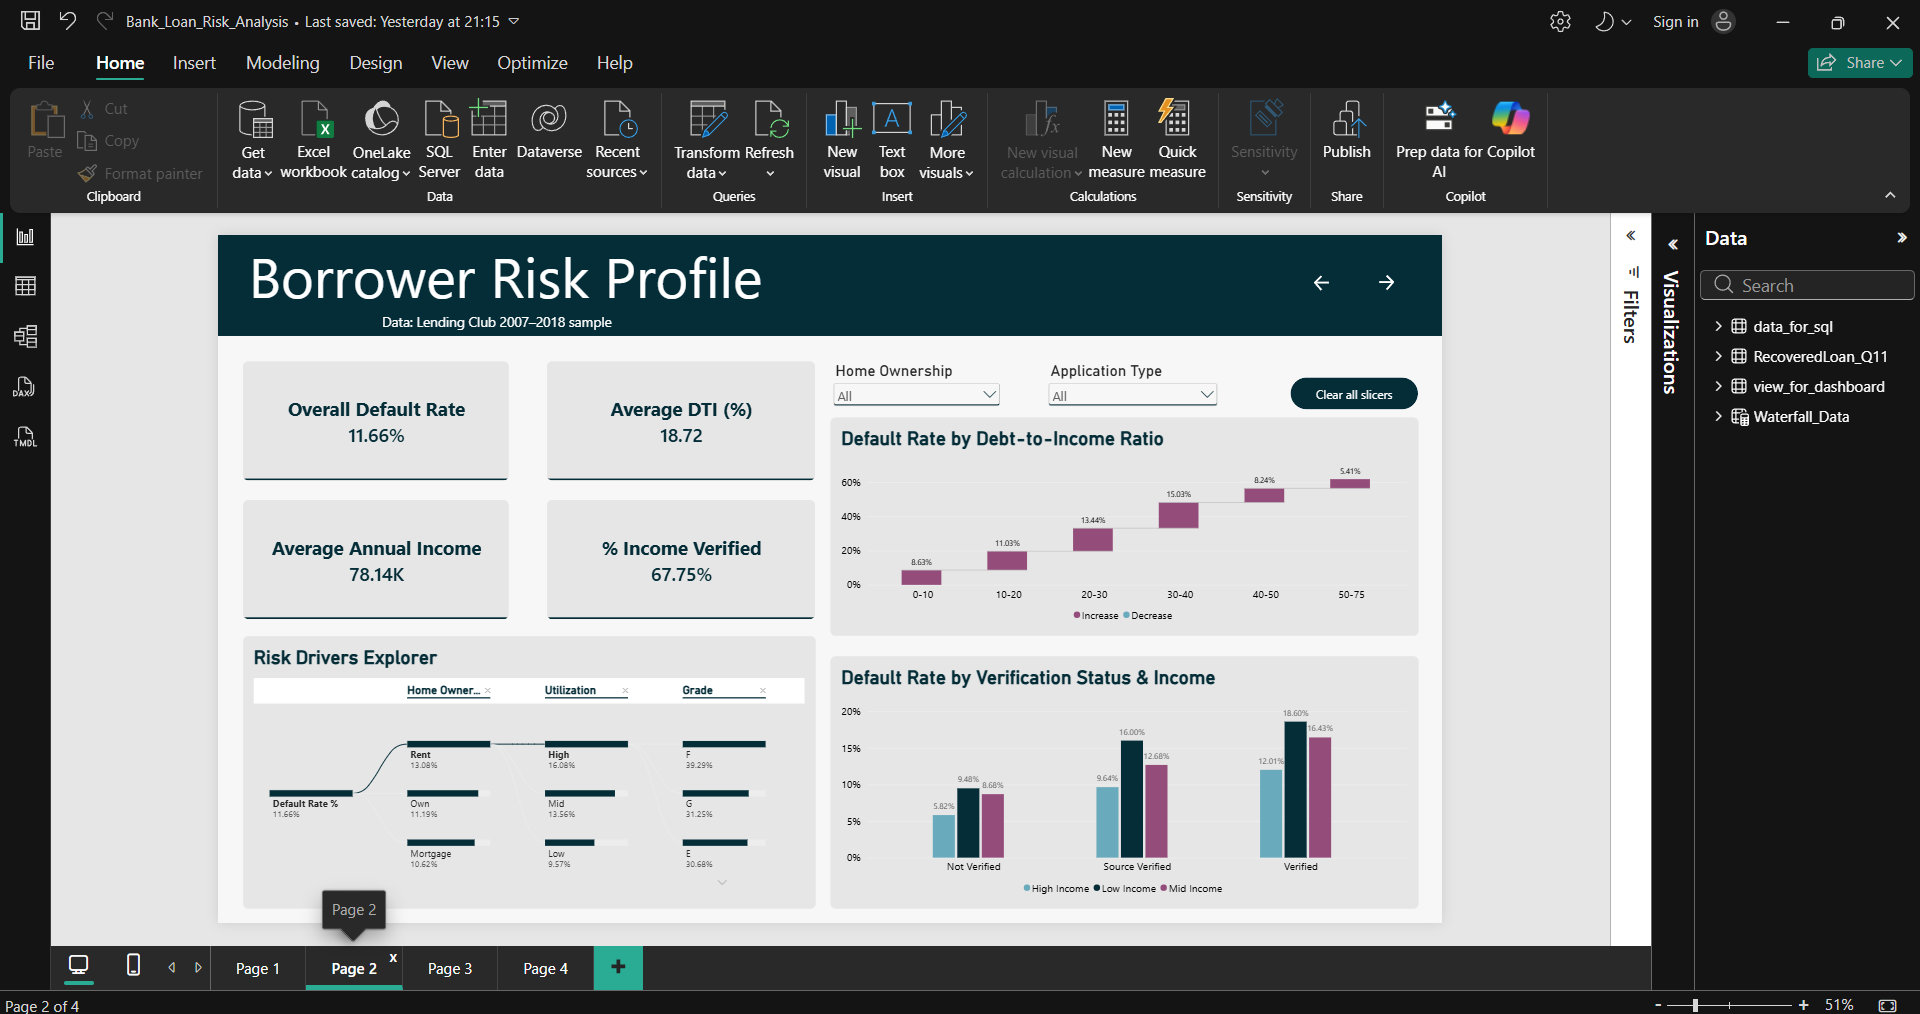

What the dashboard file says about the page in this screenshot:
{"tool":"powerbi","page":{"name":"Page 2","canvas":[1920,1080],"ordinal":1},"visuals":[{"type":"waterfallChart","title":"Default Rate by Debt-to-Income Ratio","fields":{"Category":["view_for_dashboard.DTI_Bucket_Clean"],"Y":["view_for_dashboard.Default Rate %"]},"box":[960.7,287.1,922.1,342.3],"z":0},{"type":"textbox","box":[0,0,1919.6,158.3],"z":1000},{"type":"clusteredColumnChart","title":"Default Rate by Verification Status & Income","fields":{"Category":["view_for_dashboard.Verification_Status"],"Series":["view_for_dashboard.Income_Bucket_Clean"],"Y":["view_for_dashboard.Default Rate %"]},"box":[960.7,660.7,922.1,395.7],"z":2000},{"type":"decompositionTreeVisual","title":"Risk Drivers Explorer","fields":{"Analyze":["view_for_dashboard.Default Rate %"],"ExplainBy":["view_for_dashboard.Home_Ownership_Filtered","view_for_dashboard.Utilization_Bucket_Clean","view_for_dashboard.Grade"]},"box":[38.7,629.5,898.2,427],"z":3000},{"type":"cardVisual","fields":{"Data":["view_for_dashboard.Default Rate %"]},"box":[38.7,198.8,417.8,187.7],"z":4000},{"type":"cardVisual","fields":{"Data":["Avg(view_for_dashboard.Annual_Income)"]},"box":[38.7,416,417.8,187.7],"z":5000},{"type":"cardVisual","fields":{"Data":["Avg(view_for_dashboard.Debt_Income_Ratio)"]},"box":[515.3,198.8,421.5,187.7],"z":6000},{"type":"cardVisual","fields":{"Data":["view_for_dashboard.Income_Verified"]},"box":[515.3,416,421.5,187.7],"z":7000},{"type":"slicer","fields":{"Values":["view_for_dashboard.Home_Ownership_Filtered"]},"box":[960.8,198,270.6,74.5],"z":8000},{"type":"slicer","fields":{"Values":["view_for_dashboard.Application_Type"]},"box":[1298,198,274.5,74.5],"z":9000},{"type":"actionButton","box":[1682.2,222.7,200,50],"z":10000},{"type":"actionButton","box":[1781.6,55.2,100,40],"z":11000},{"type":"actionButton","box":[1682.2,55.2,99.4,40.5],"z":12000}]}

Visuals, with their boxes on the page's 1920x1080 design canvas (x1, y1, x2, y2). These are canvas units, not pixel positions in the 1920x1014 screenshot, which may show the page scaled, cropped or inside an application window:
"Default Rate by Debt-to-Income Ratio" waterfallChart: bbox=(961, 287, 1883, 629)
textbox: bbox=(0, 0, 1920, 158)
"Default Rate by Verification Status & Income" clusteredColumnChart: bbox=(961, 661, 1883, 1056)
"Risk Drivers Explorer" decompositionTreeVisual: bbox=(39, 630, 937, 1056)
cardVisual - view_for_dashboard.Default Rate %: bbox=(39, 199, 456, 386)
cardVisual - Avg(view_for_dashboard.Annual_Income): bbox=(39, 416, 456, 604)
cardVisual - Avg(view_for_dashboard.Debt_Income_Ratio): bbox=(515, 199, 937, 386)
cardVisual - view_for_dashboard.Income_Verified: bbox=(515, 416, 937, 604)
slicer - view_for_dashboard.Home_Ownership_Filtered: bbox=(961, 198, 1231, 272)
slicer - view_for_dashboard.Application_Type: bbox=(1298, 198, 1572, 272)
actionButton: bbox=(1682, 223, 1882, 273)
actionButton: bbox=(1782, 55, 1882, 95)
actionButton: bbox=(1682, 55, 1782, 96)
